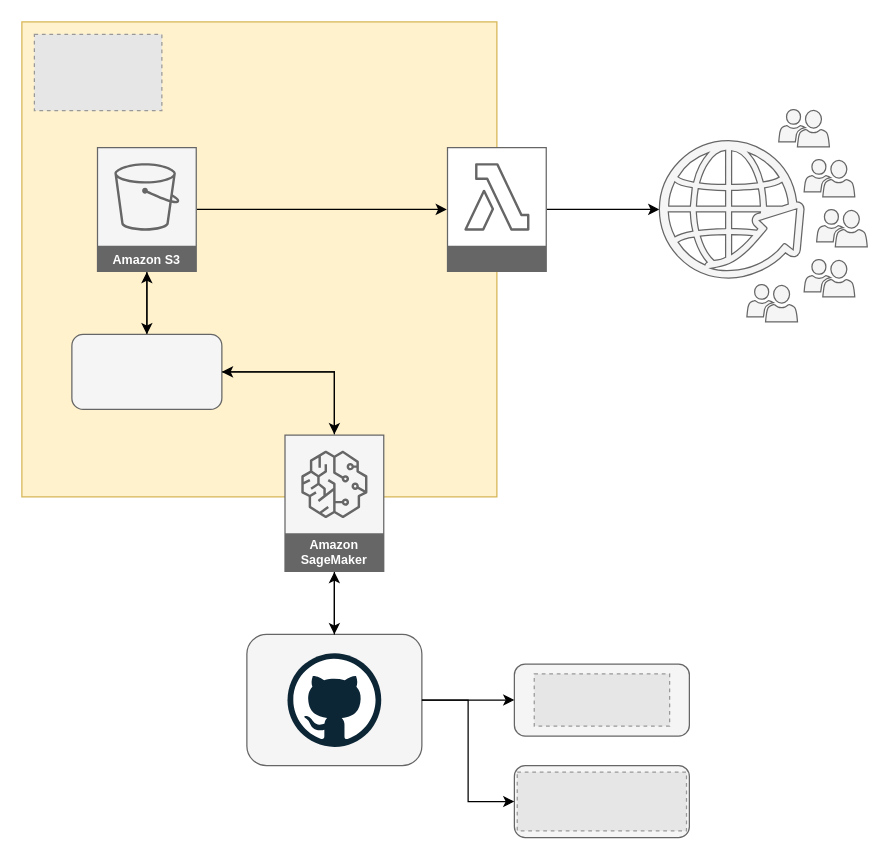
Some shapes in this 890 by 860 pixel diagram are drawn without their labels. Grey dashed boxes stand in for pictures. The shapes that lost their labels are listed below. From the top down, each one's box as (x1, y1, x2, y2) in pixels, then its label:
(446, 146, 547, 272): AWS Lambda
(71, 333, 222, 409): DVC
